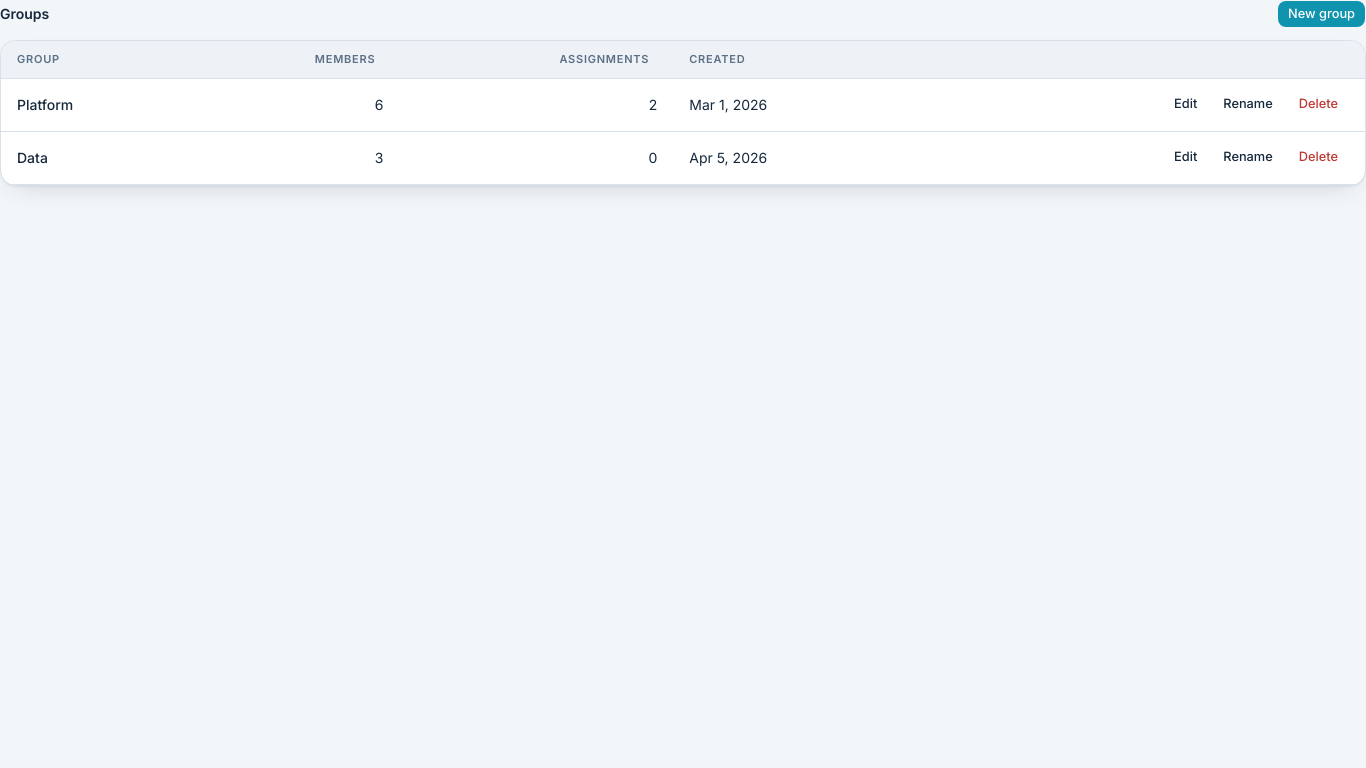
it: GroupsTab › group membership (Edit) › offers an Edit action per group, listing the team's ACTIVE members as checkboxes — not the removed one
This screenshot has width=1366, height=768.
Click the button "Edit" in the row of "Platform" at (1186, 104), box 1163,90 -> 1208,118
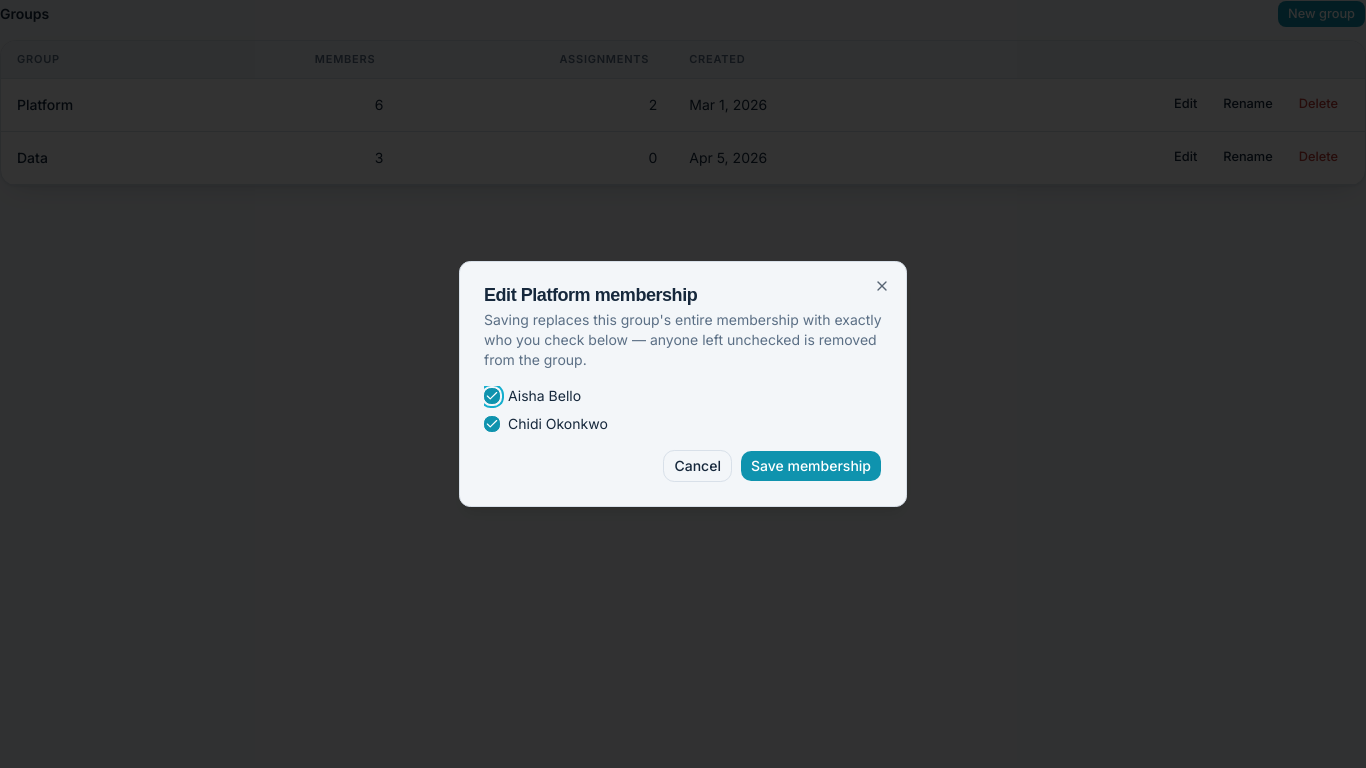
Check: the checkbox named "Aisha Bello" is shown, box 484,388 -> 500,404
Check: the checkbox named "Chidi Okonkwo" is shown, box 484,416 -> 500,432
